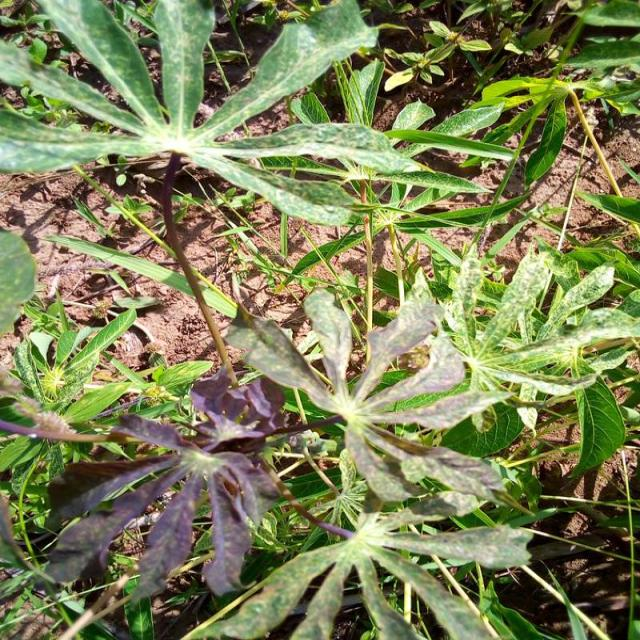cassava leaf: (1, 1, 637, 638), (0, 0, 421, 229), (224, 285, 522, 519)
